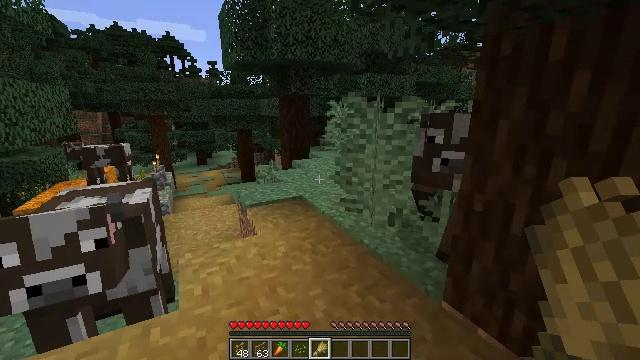cow: (2, 187, 179, 341), (412, 112, 479, 222), (68, 143, 132, 185)
